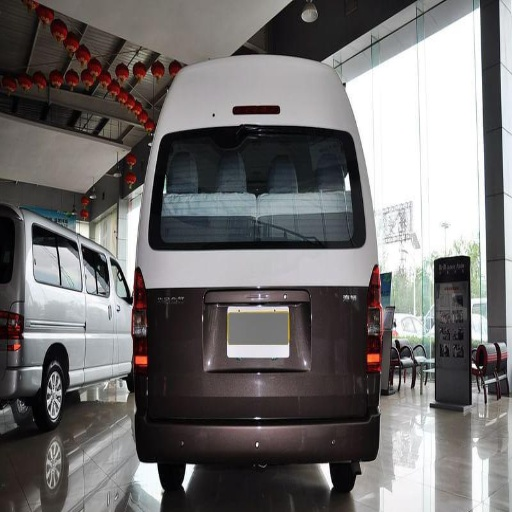back_bumper: (144, 397, 380, 460)
trunk: (153, 250, 375, 415)
